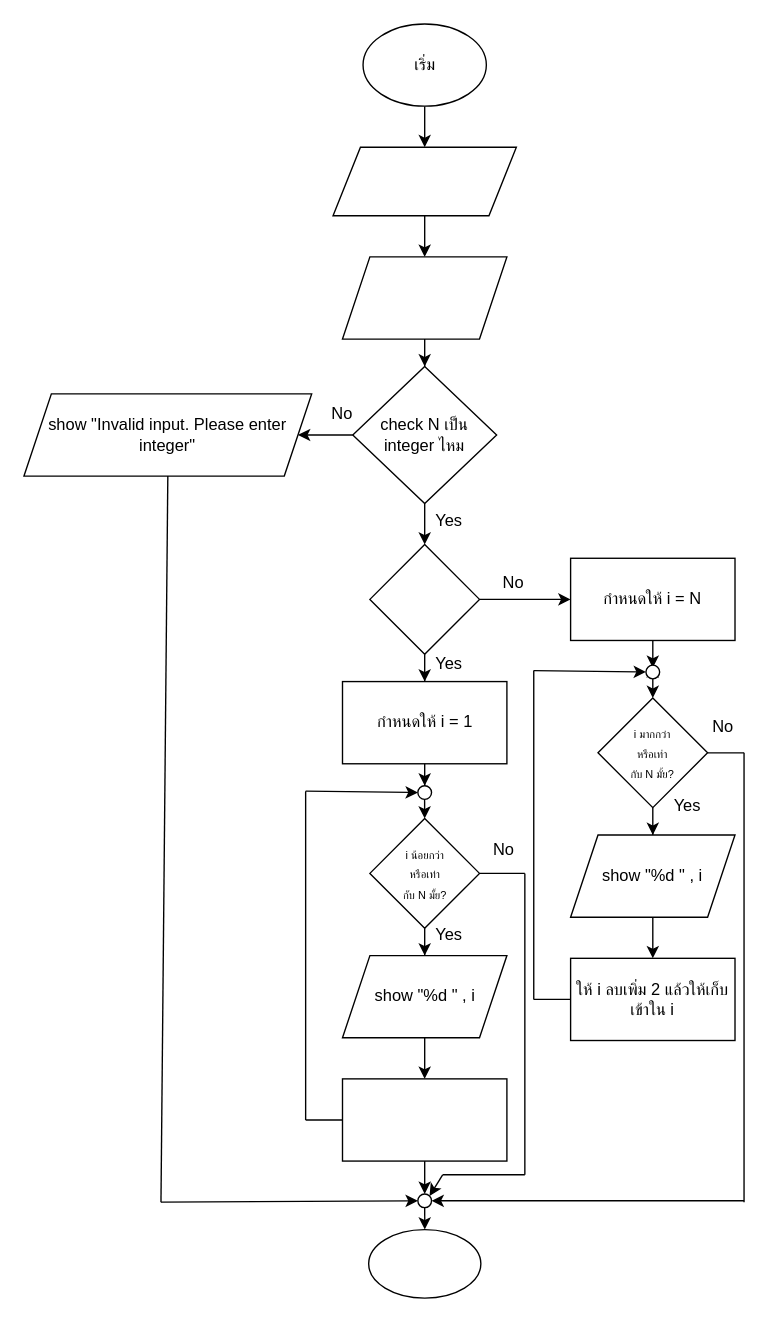
Image size: 780x1322. Some labels were removed from this diagram. Here are the shapes that lost their labels. From the top down, the centre of each, then its label:
the point at 424,181: show "Enter Value: "
the point at 424,297: รับค่า N
the point at 424,598: N % 2 = 1
the point at 424,1119: ให้ i บวกเพิ่ม 2 แล้วให้เก็บเข้าใน i
the point at 424,1263: จบ
